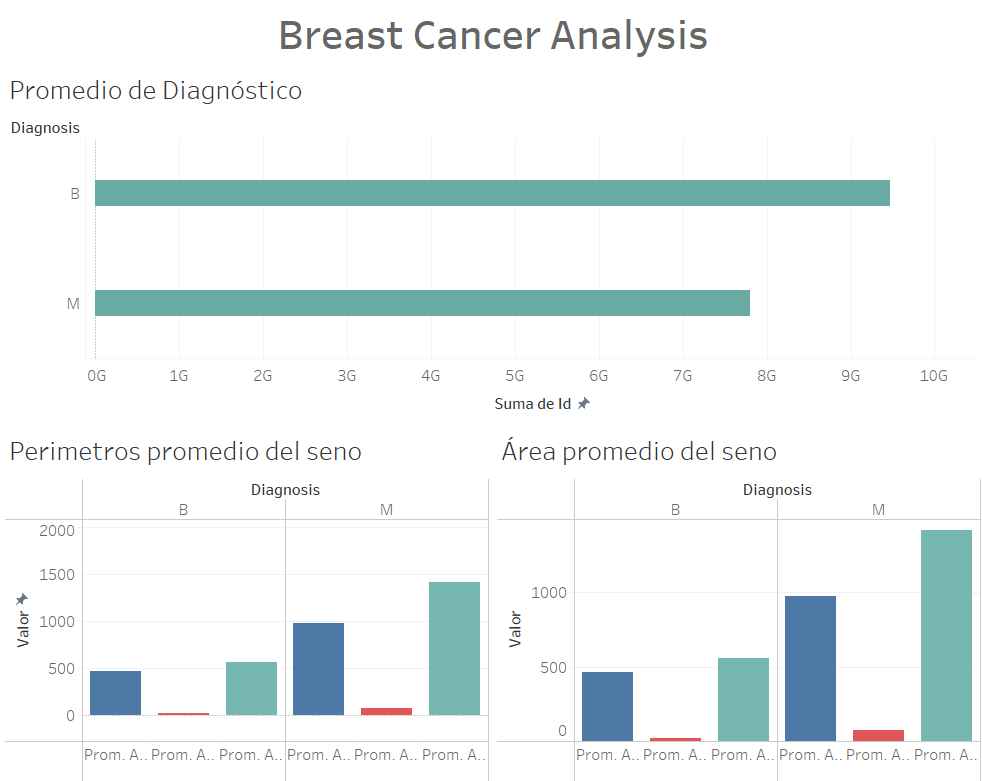

The dashboard page shown, as its layout file describes it:
{"tool":"tableau","page":{"name":"Dashboard","canvas":[1000,800],"ordinal":0},"visuals":[{"type":"text","box":[8,8,984,62]},{"type":"worksheet","title":"Diagnosis","mark":"Automatic","rows":["diagnosis"],"cols":["id"],"box":[8,70,984,361]},{"type":"worksheet","title":"Perimetro_diag","mark":"Automatic","cols":["diagnosis"],"box":[8,431,492,361]},{"type":"worksheet","title":"Area_diag","mark":"Automatic","cols":["diagnosis"],"box":[500,431,492,361]}]}

Visuals, with their boxes in screenshot pixels (x1, y1, x2, y2), scaled from the page's 1000x800 canvas onto the 982x781 screenshot:
text: (left=8, top=8, right=974, bottom=68)
"Diagnosis" worksheet: (left=8, top=68, right=974, bottom=421)
"Perimetro_diag" worksheet: (left=8, top=421, right=491, bottom=773)
"Area_diag" worksheet: (left=491, top=421, right=974, bottom=773)
